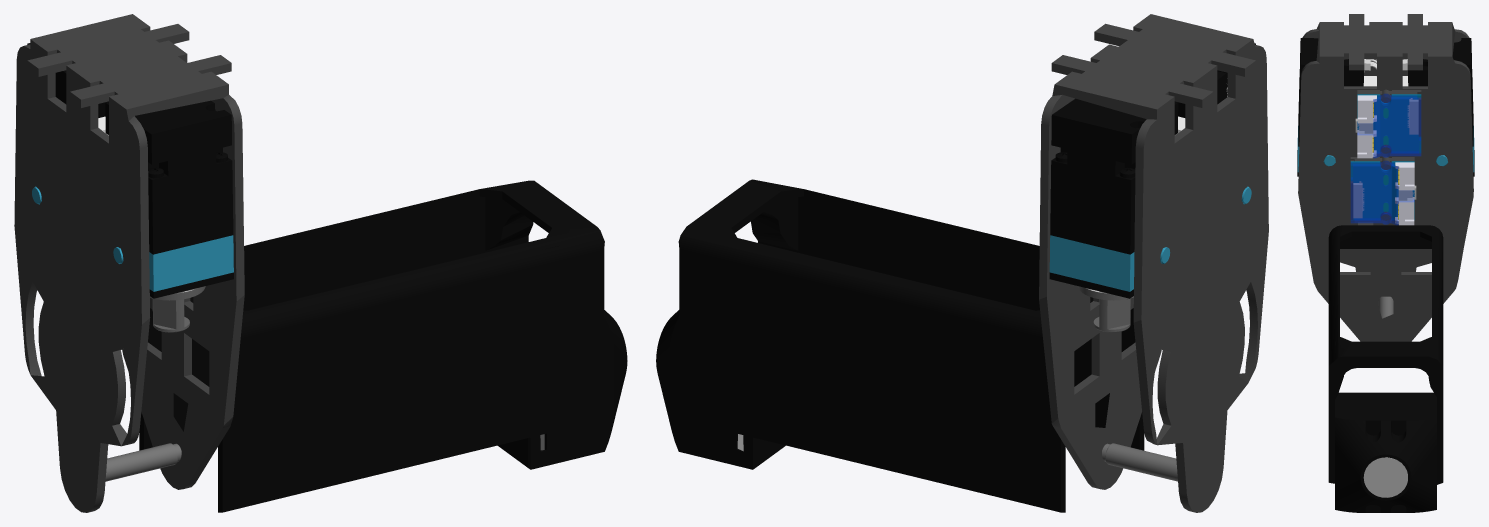
Rendered from head_link.dae.
3 views of the same model, side by side, from view 1: azimuth 30°, elevation 25°; view 2: azimuth 150°, elevation 25°; view 3: azimuth 270°, elevation 25° (orthographic). The views are drawn at different scales.
Visible parts, largest first — view 1: FBXASC227FBXASC130FBXASC189FBXASC227FBXASC131FBXASC170FBXASC (×9); view 2: FBXASC227FBXASC130FBXASC189FBXASC227FBXASC131FBXASC170FBXASC (×10); view 3: FBXASC227FBXASC130FBXASC189FBXASC227FBXASC131FBXASC170FBXASC (×22).
Boxes of the visible parts, bbox=[...] form: FBXASC227FBXASC130FBXASC189FBXASC227FBXASC131FBXASC170FBXASC (×9): bbox=[14, 14, 627, 512]; FBXASC227FBXASC130FBXASC189FBXASC227FBXASC131FBXASC170FBXASC (×10): bbox=[656, 14, 1268, 512]; FBXASC227FBXASC130FBXASC189FBXASC227FBXASC131FBXASC170FBXASC (×22): bbox=[1298, 14, 1473, 512].
Bounding box in the file's own units: 0.1731 × 0.0694 × 0.14.
